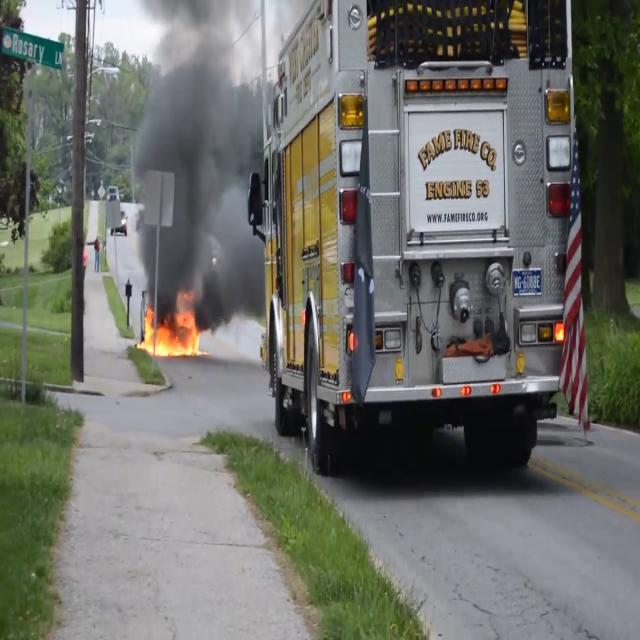Fire: (140, 300, 203, 362)
Smoke: (120, 1, 268, 323)
